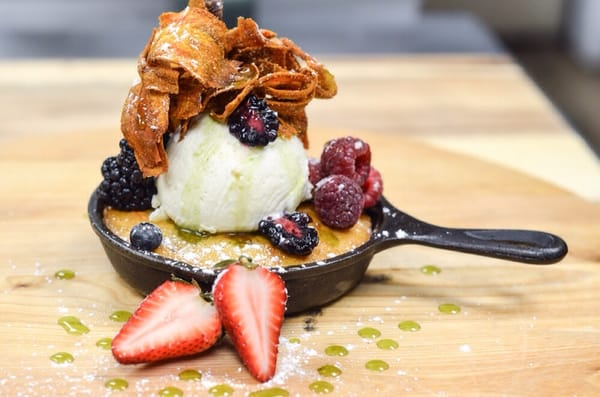salad: (96, 200, 568, 314)
